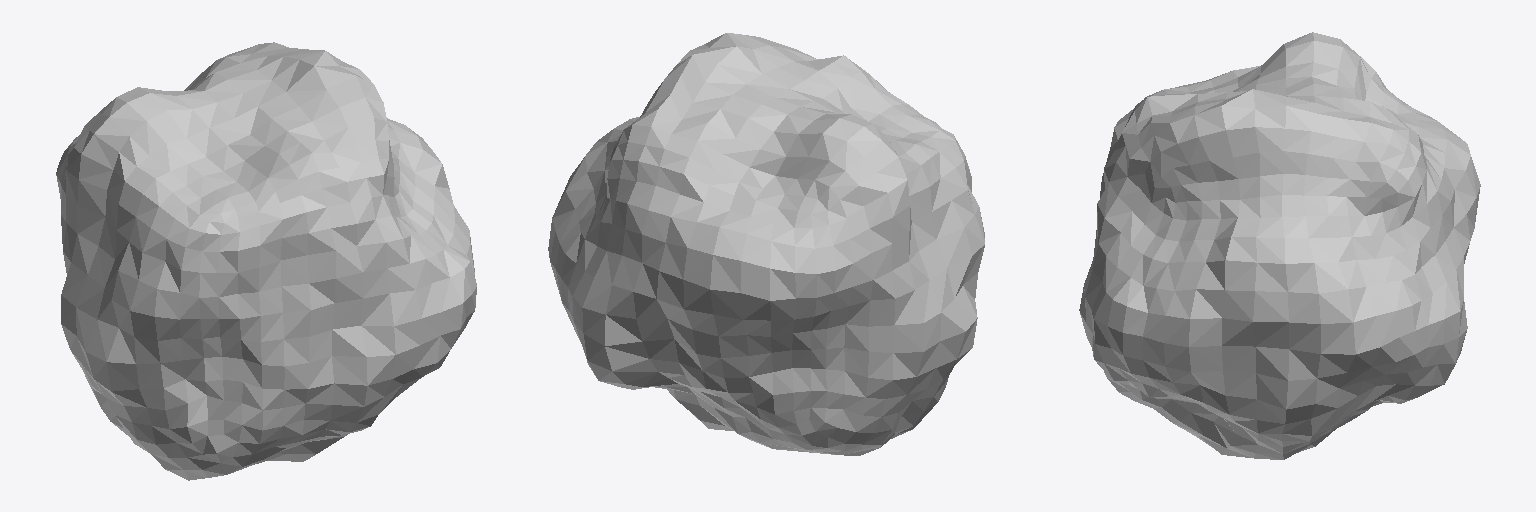
Rendered from O_IceWorldGirantHail_b.obj.
The picture shows the model from 3 angles: view 1: azimuth 30°, elevation 25°; view 2: azimuth 150°, elevation 25°; view 3: azimuth 270°, elevation 25°; orthographic projection.
Parts seen in each view (by area): view 1: Stone_F_1_LOD1; view 2: Stone_F_1_LOD1; view 3: Stone_F_1_LOD1.
Part boxes in pixels (x1,y1,x2,y2): Stone_F_1_LOD1: (56,42,476,480); Stone_F_1_LOD1: (548,33,984,455); Stone_F_1_LOD1: (1079,32,1480,459).
Bounding box in the file's own units: 190 × 186 × 179.